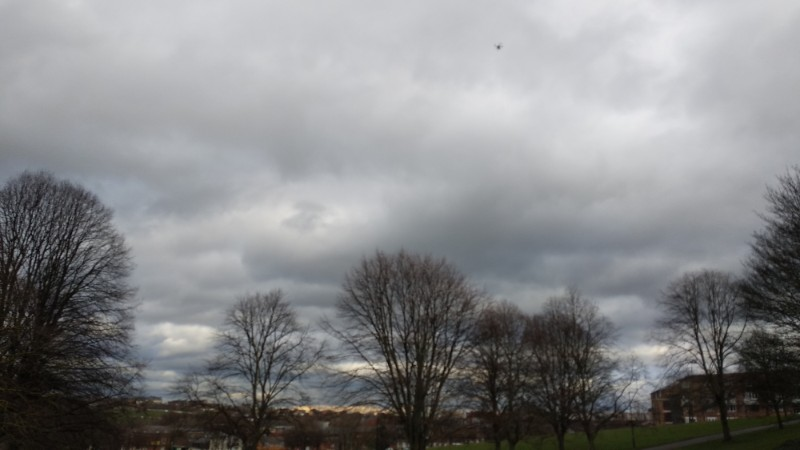drone: (494, 43, 505, 51)
